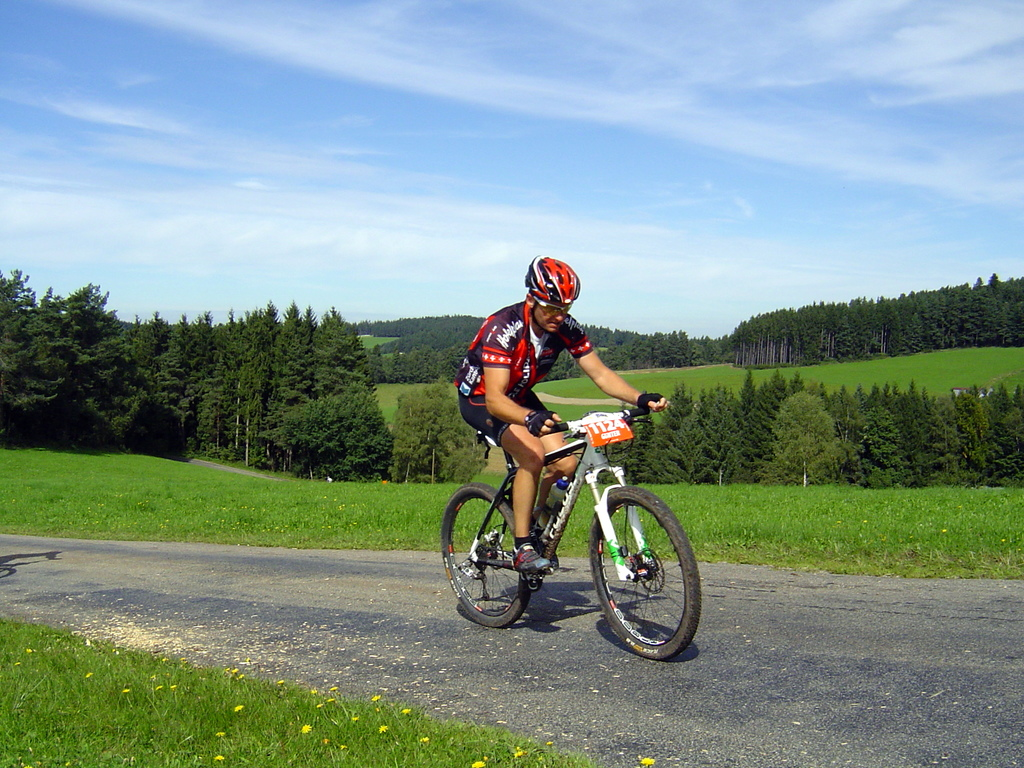Bike: (436, 399, 708, 661)
